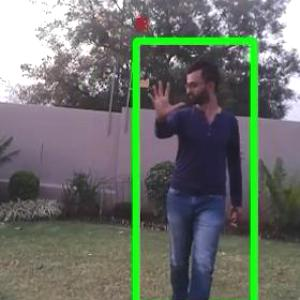follow_hand: (144, 76, 186, 119)
